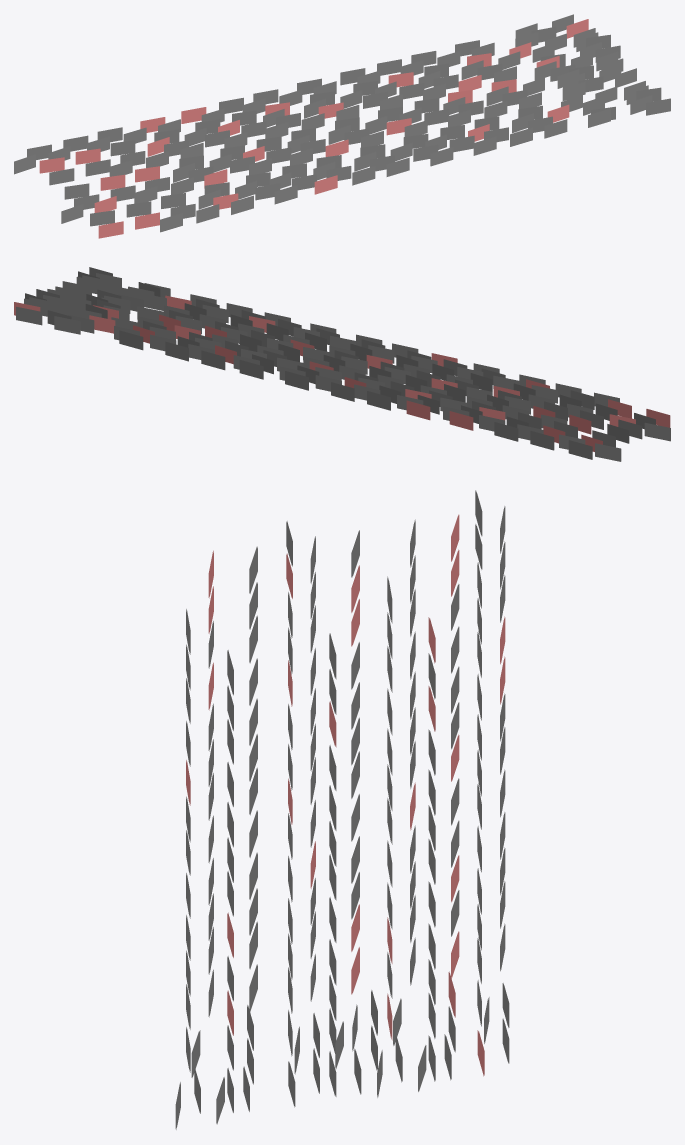
The model's file is Crowd_02.FBX.
3 views of the same model, one above another, from view 1: azimuth 30°, elevation 25°; view 2: azimuth 150°, elevation 25°; view 3: azimuth 270°, elevation 25° (orthographic). The views are drawn at different scales.
Parts seen in each view (by area): view 1: crowd002; view 2: crowd002; view 3: crowd002.
Boxes of the visible parts, bbox=[...] form: crowd002: bbox=[14, 14, 670, 238]; crowd002: bbox=[14, 267, 670, 461]; crowd002: bbox=[175, 490, 509, 1129].
Bounding box in the file's own units: 2409 × 155 × 598.
